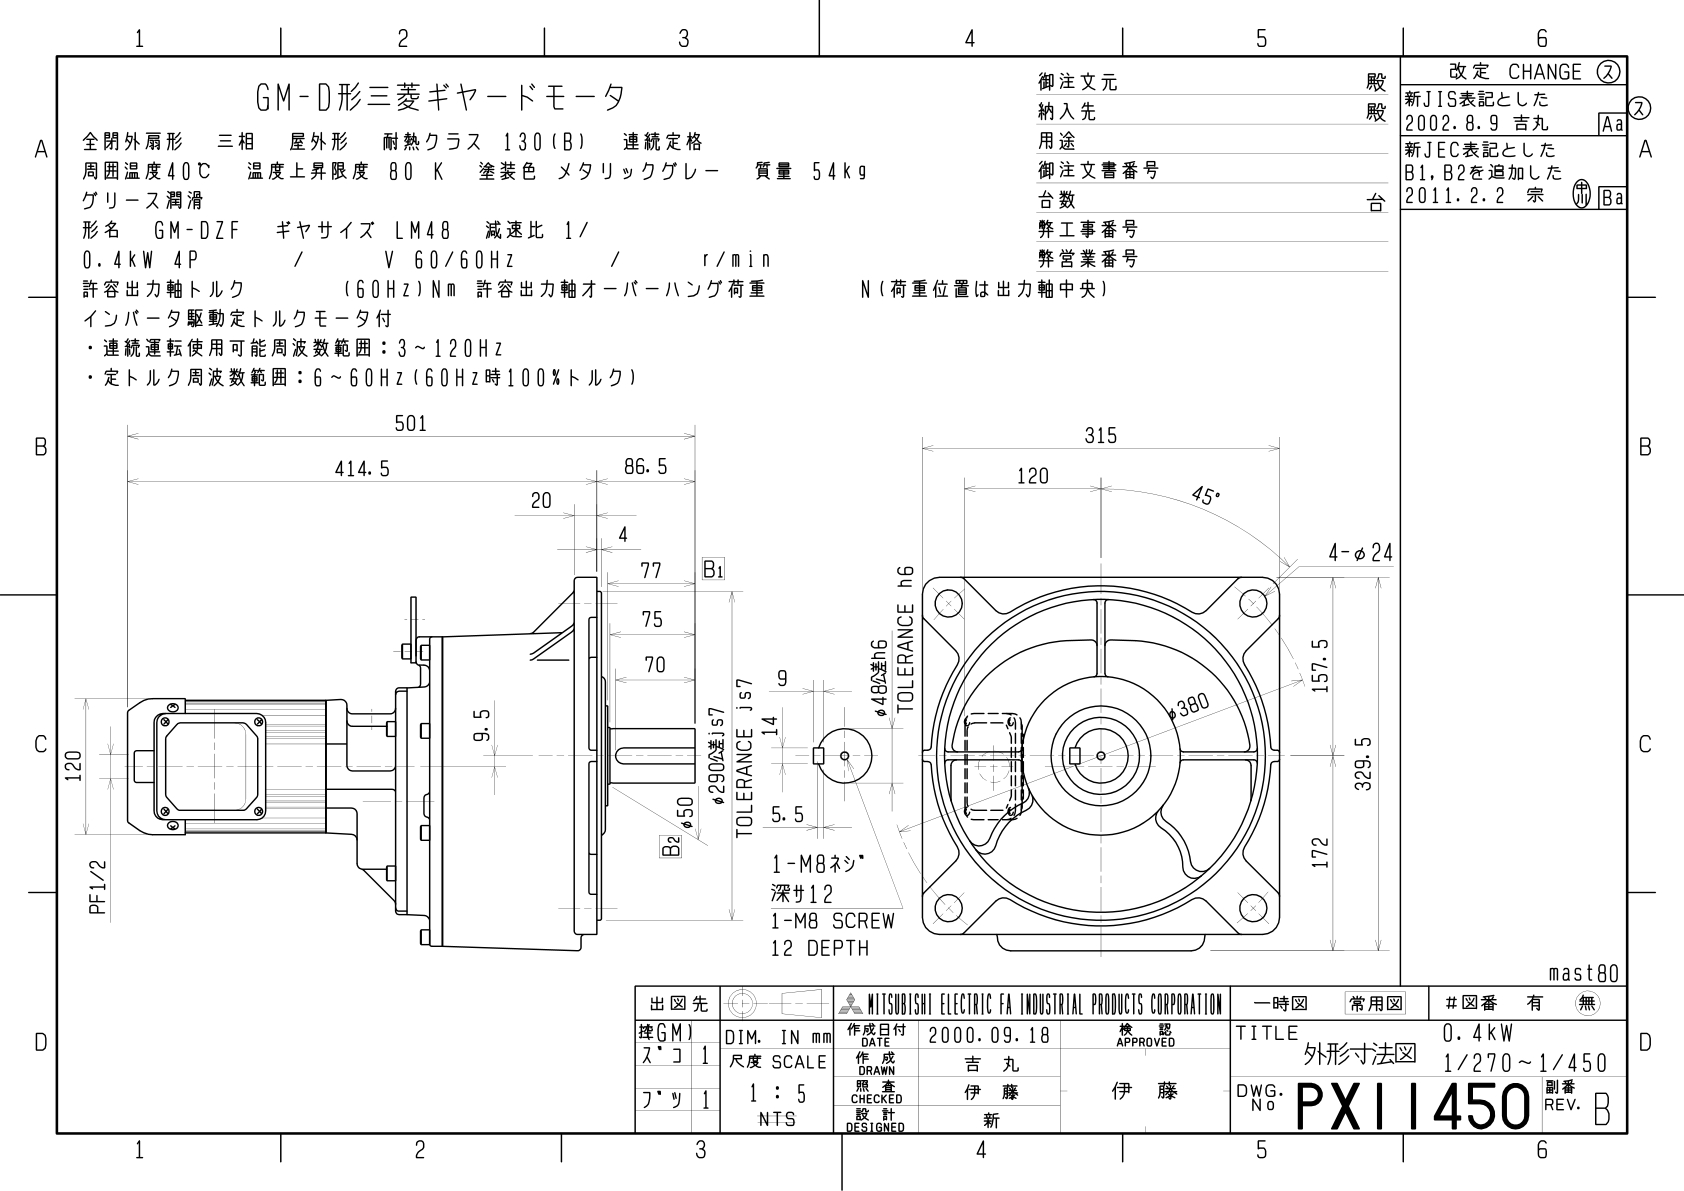GM_D_インバータ屋外_三相_フランジ: (15, 12, 1684, 1191)
